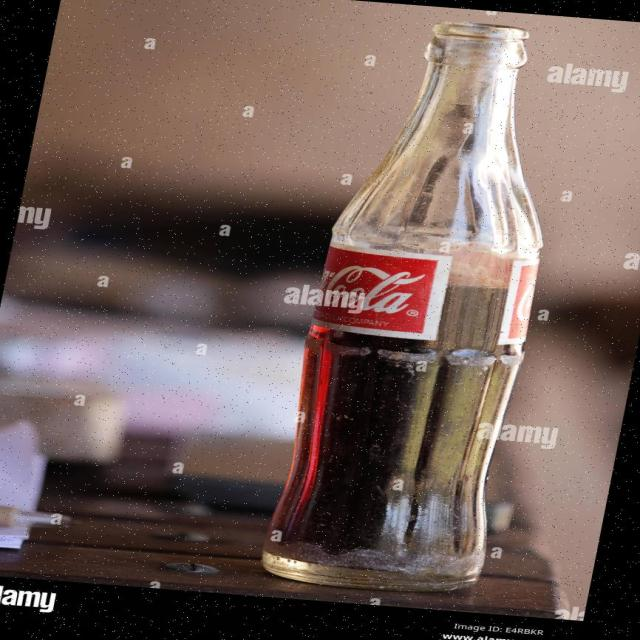coca-cola: (219, 1, 628, 600)
